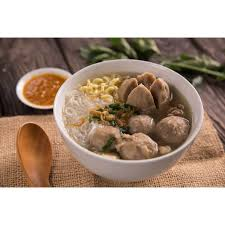bakso: (75, 61, 192, 174)
